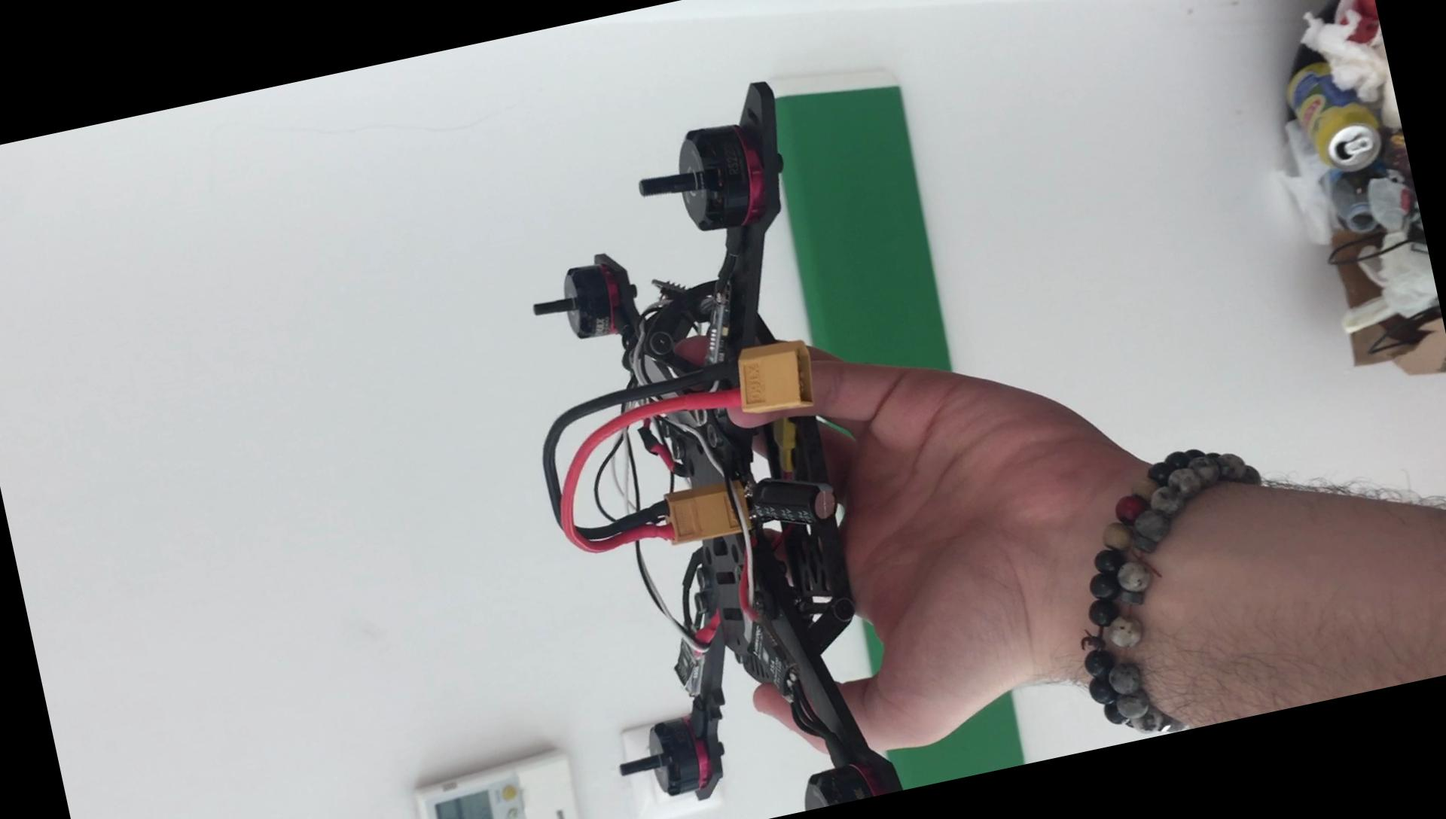drone: (477, 74, 908, 819)
